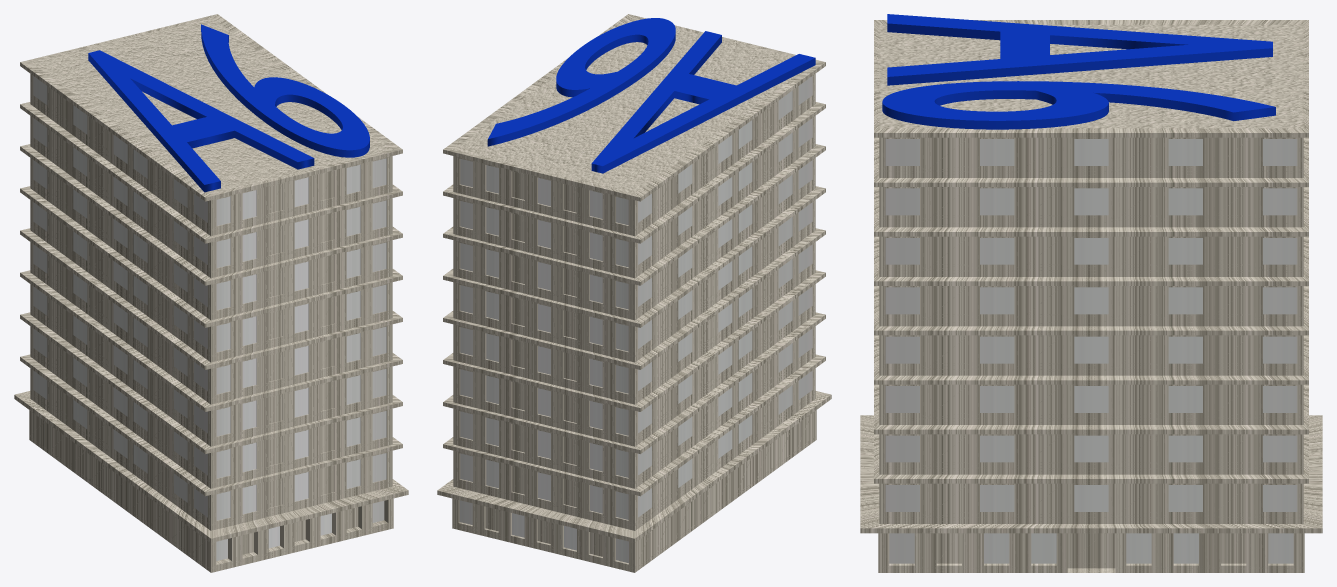
Rendered from BuildingA6.obj.
The picture shows the model from 3 angles, left to right: view 1: azimuth 30°, elevation 25°; view 2: azimuth 150°, elevation 25°; view 3: azimuth 270°, elevation 25°; orthographic projection. The views are drawn at different scales.
Parts seen in each view (by area): view 1: Plane.070, Plane.011, Text.035; view 2: Plane.070, Plane.011, Text.035; view 3: Plane.070, Text.035, Plane.011.
Part boxes in pixels (x1,y1,x2,y2): Plane.070: [20, 14, 402, 530]; Plane.011: [14, 391, 408, 572]; Text.035: [88, 24, 369, 192]; Plane.070: [443, 14, 825, 530]; Plane.011: [437, 391, 831, 572]; Text.035: [487, 18, 815, 173]; Plane.070: [874, 20, 1308, 523]; Text.035: [882, 14, 1275, 129]; Plane.011: [860, 415, 1322, 572].
Bounding box in the file's own units: 4.42 × 8.25 × 7.63.
Materials: 5 (4 with a texture image).
